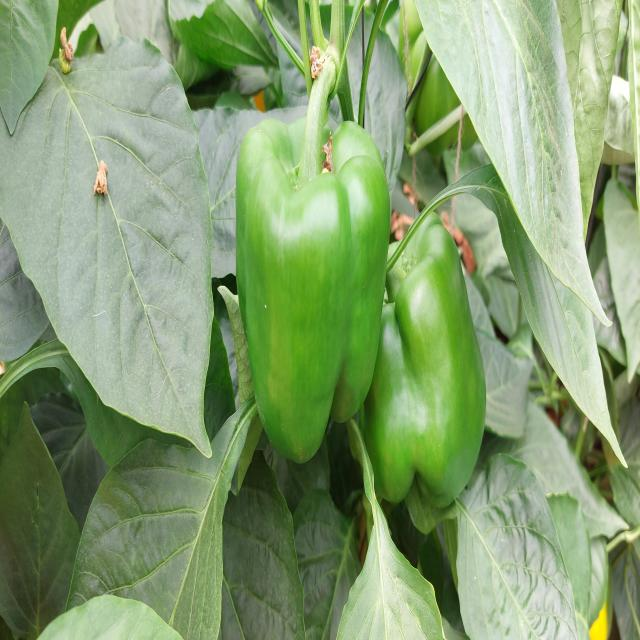Green--Not-ready-to-harvest: (240, 115, 383, 452), (369, 230, 492, 532)
